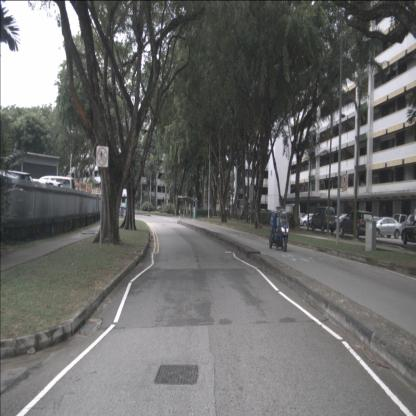vehicle-car: (36, 176, 76, 210), (339, 210, 375, 238), (370, 217, 402, 239), (311, 207, 336, 233), (392, 214, 414, 235), (401, 220, 416, 245), (299, 213, 317, 227)
vehicle-motorcycle: (269, 208, 289, 252)
